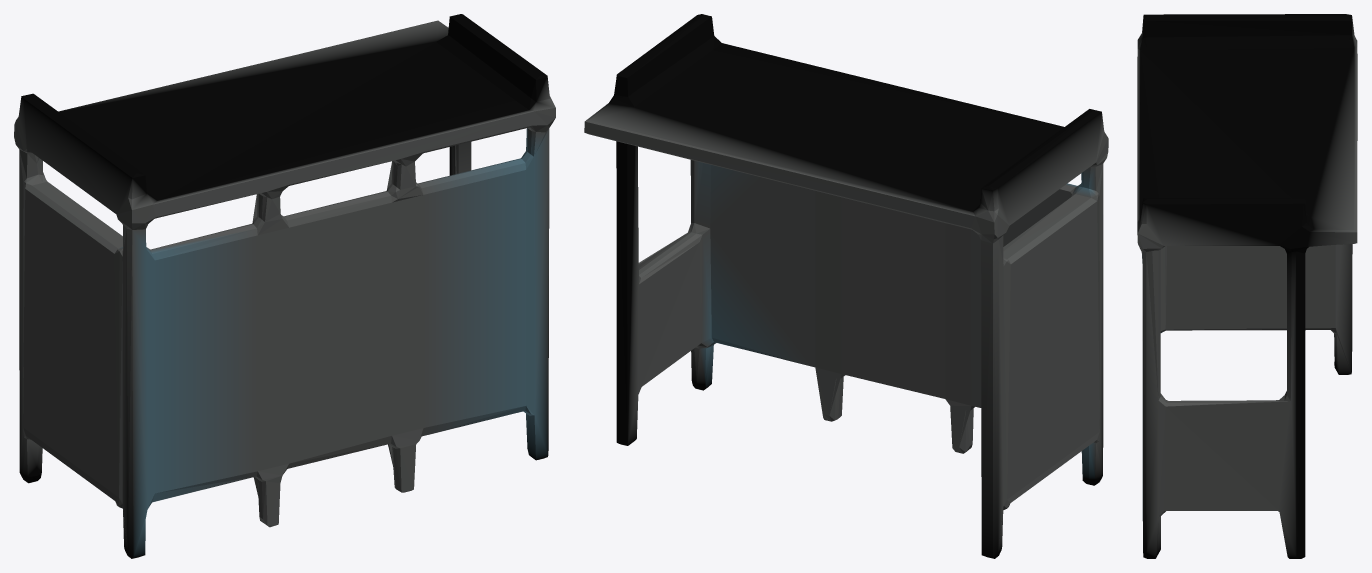
File: Bus Stops.glb
3 renders of one model, left to right at view 1: azimuth 30°, elevation 25°; view 2: azimuth 150°, elevation 25°; view 3: azimuth 270°, elevation 25°, orthographic. The views are drawn at different scales.
Visible parts, largest first — view 1: Root; view 2: Root; view 3: Root.
Boxes of the visible parts, x1=… form: Root: x1=14, y1=14, x2=555, y2=558; Root: x1=584, y1=14, x2=1108, y2=558; Root: x1=1137, y1=14, x2=1357, y2=558.
Size of the model in its own units: 2.38 by 2.05 by 1.14.
